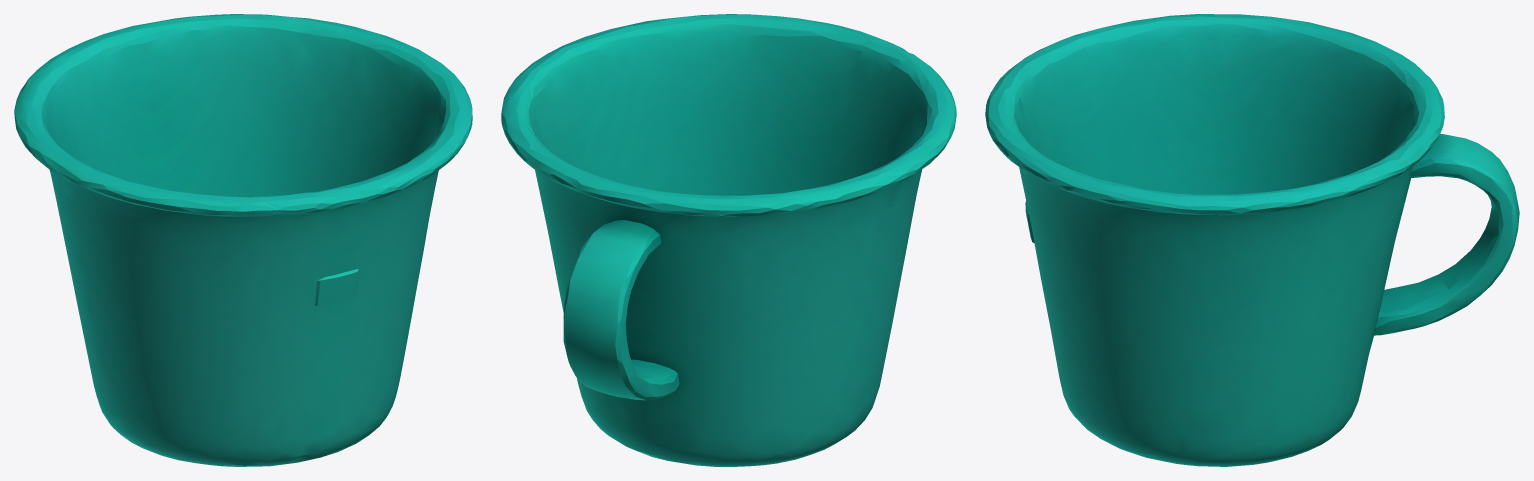
File: cup.glb
The picture shows the model from 3 angles, left to right: view 1: azimuth 30°, elevation 25°; view 2: azimuth 150°, elevation 25°; view 3: azimuth 270°, elevation 25°; orthographic projection.
Parts seen in each view (by area): view 1: model; view 2: model; view 3: model.
Boxes of the visible parts, x1,y1,x2,y2 form: model: (14,14,472,466); model: (501,14,956,466); model: (985,14,1519,466).
Bounding box in the file's own units: 1.62 × 1.21 × 1.9.
1 material, 1 textured.
